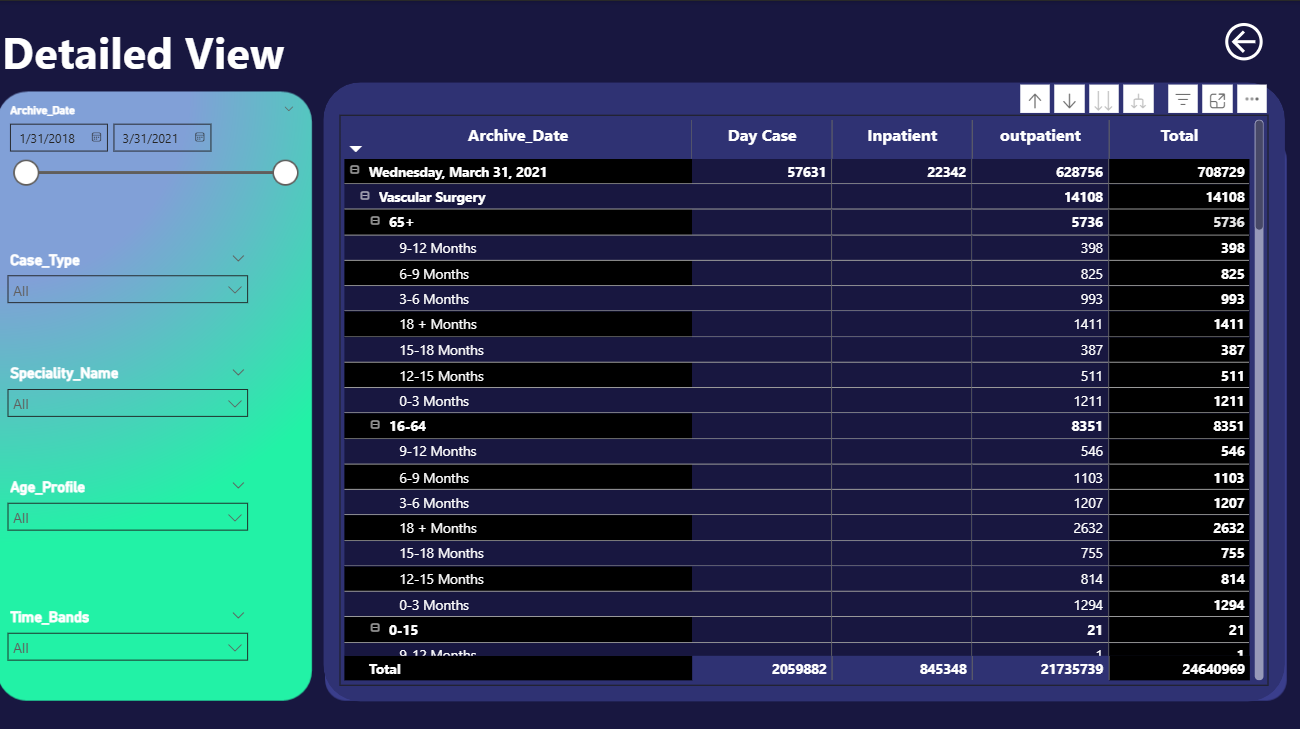

This screenshot's page, from the dashboard's own definition file:
{"tool":"powerbi","page":{"name":"Detail","canvas":[1280,720],"ordinal":1},"visuals":[{"type":"shape","box":[320,80,944,608],"z":0},{"type":"textbox","box":[0,16,320,80],"z":1000},{"type":"slicer","fields":{"Values":["All_Data.Archive_Date"]},"box":[0,96,304,96],"z":2000},{"type":"slicer","fields":{"Values":["All_Data.Case_Type"]},"box":[0,240,256,80],"z":3000},{"type":"slicer","fields":{"Values":["All_Data.Speciality_Name"]},"box":[0,352,256,64],"z":4000},{"type":"slicer","fields":{"Values":["All_Data.Age_Profile"]},"box":[0,464,256,80],"z":5000},{"type":"slicer","fields":{"Values":["All_Data.Time_Bands"]},"box":[0,592,256,80],"z":6000},{"type":"pivotTable","fields":{"Rows":["All_Data.Archive_Date","All_Data.Speciality_Name","All_Data.Age_Profile","All_Data.Time_Bands"],"Columns":["All_Data.Case_Type"],"Values":["Sum(All_Data.Total)"]},"box":[336,112,912,560],"z":7000},{"type":"actionButton","box":[1200,16,64,48],"z":7001}]}

Visuals, with their boxes in screenshot pixels (x1, y1, x2, y2), scaled from the page's 1280x720 canvas onto the 1300x729 screenshot:
shape: (left=325, top=81, right=1284, bottom=697)
textbox: (left=0, top=16, right=325, bottom=97)
slicer - All_Data.Archive_Date: (left=0, top=97, right=309, bottom=194)
slicer - All_Data.Case_Type: (left=0, top=243, right=260, bottom=324)
slicer - All_Data.Speciality_Name: (left=0, top=356, right=260, bottom=421)
slicer - All_Data.Age_Profile: (left=0, top=470, right=260, bottom=551)
slicer - All_Data.Time_Bands: (left=0, top=599, right=260, bottom=680)
pivotTable - All_Data.Archive_Date x All_Data.Speciality_Name: (left=341, top=113, right=1268, bottom=680)
actionButton: (left=1219, top=16, right=1284, bottom=65)
